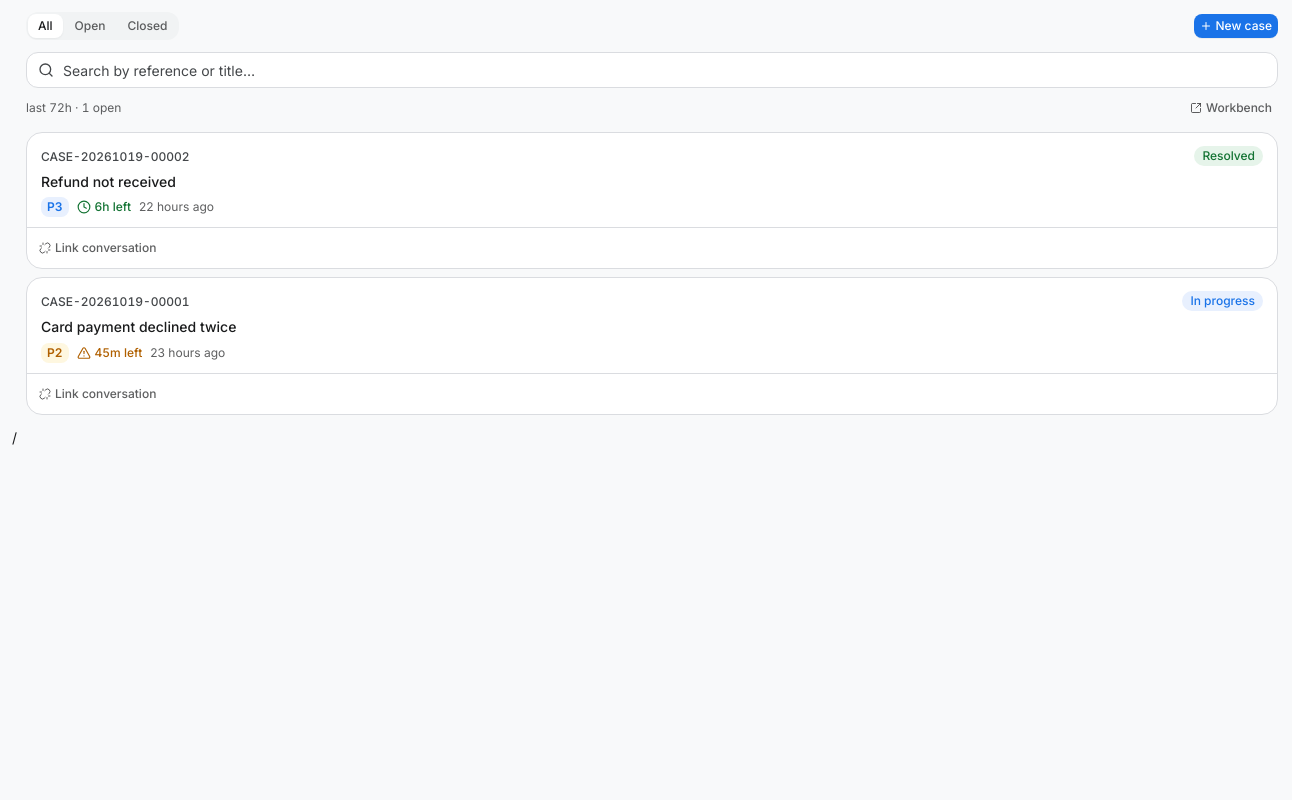
Scenario: conversation Cases tab › posts a comment from the case detail
Click the text "Card payment declined twice" at (139, 327), box [41,318,236,335]
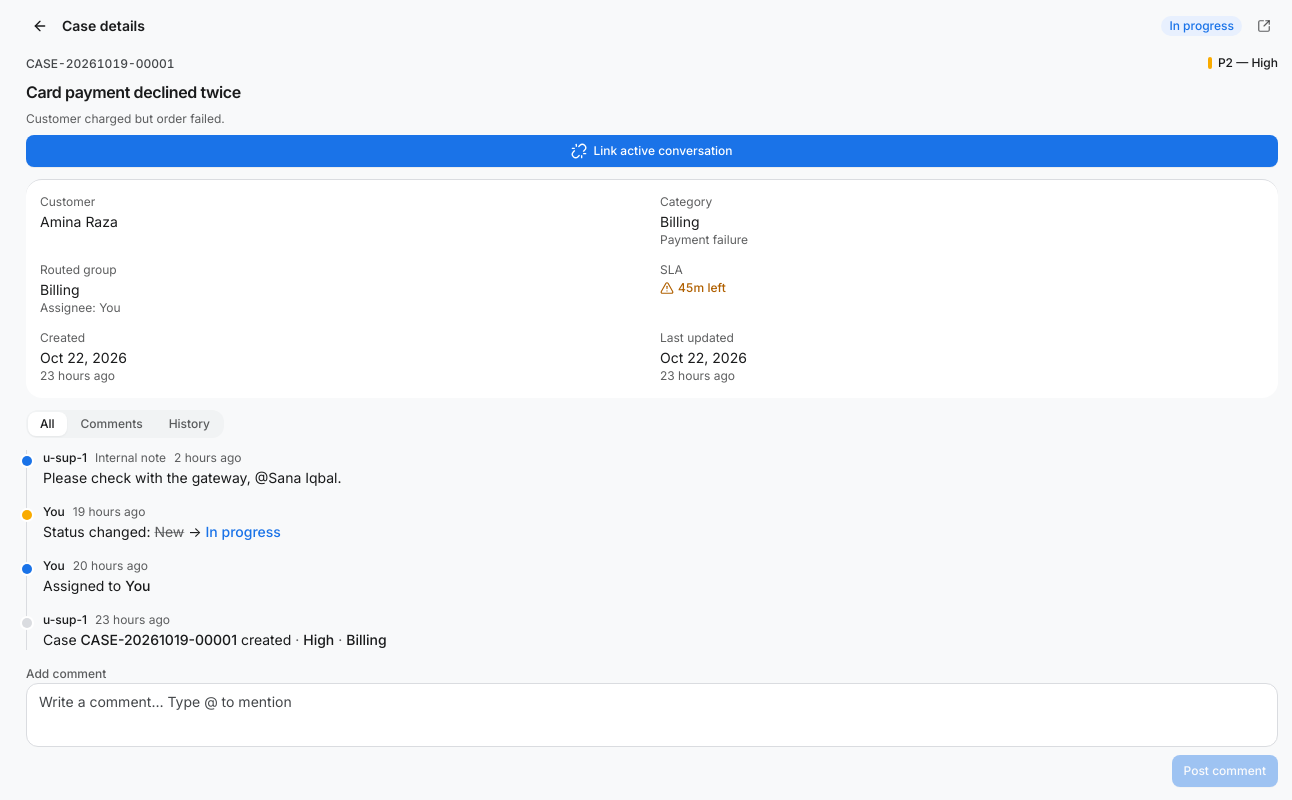
Expected: the text "Please check with the gateway, @Sana Iqbal." is shown, [43,469,342,486]
Click the field named "Write a comment… Type @ to mention" at (652, 715), box [26,683,1278,747]
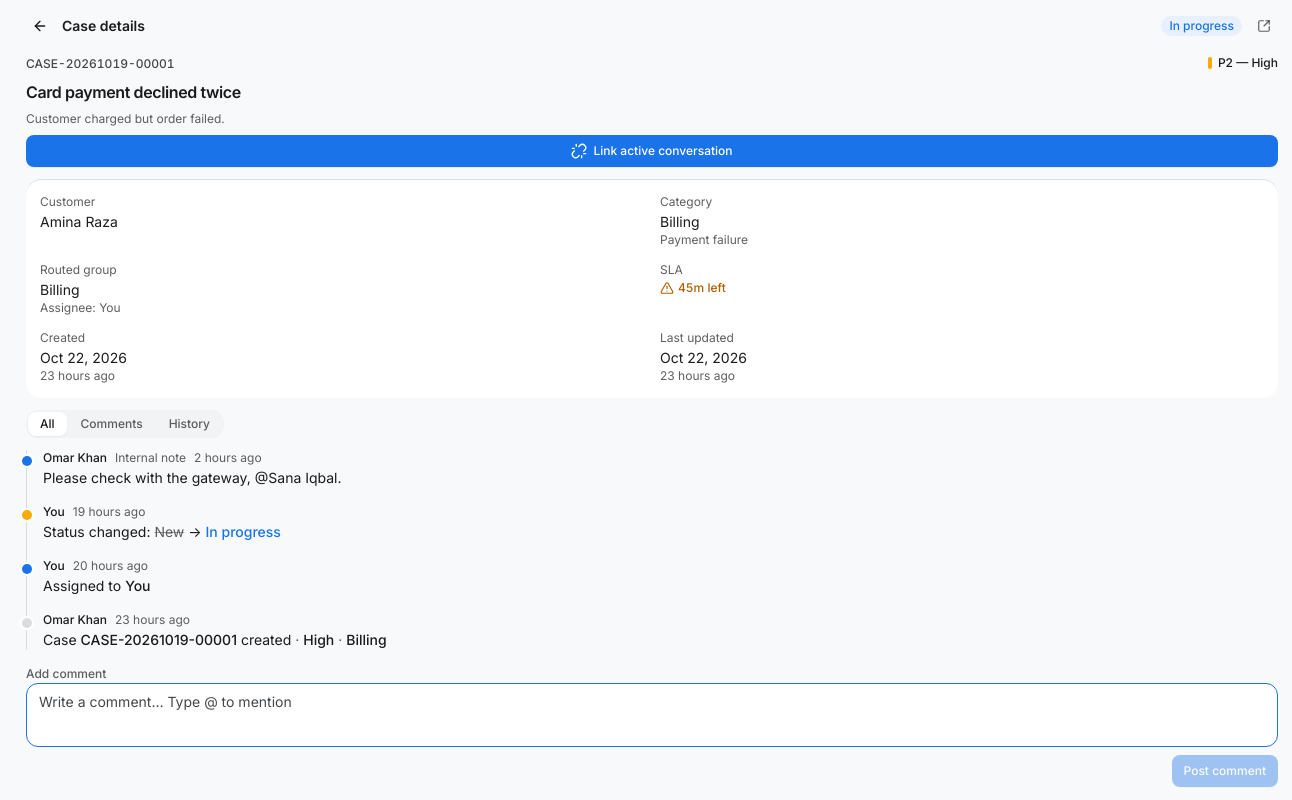
Type keys "Customer sent a screenshot"
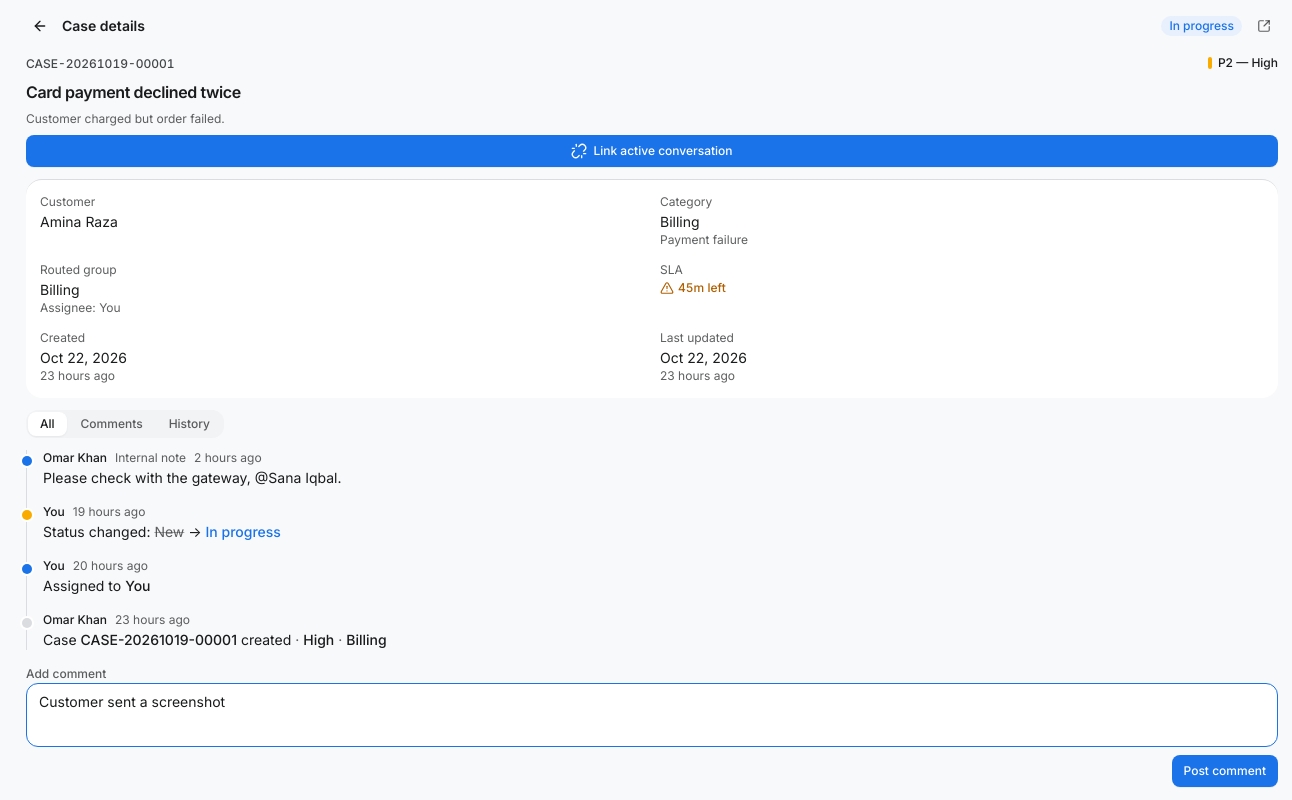
Click the button "Post comment" at (1225, 771), box [1172,755,1278,787]
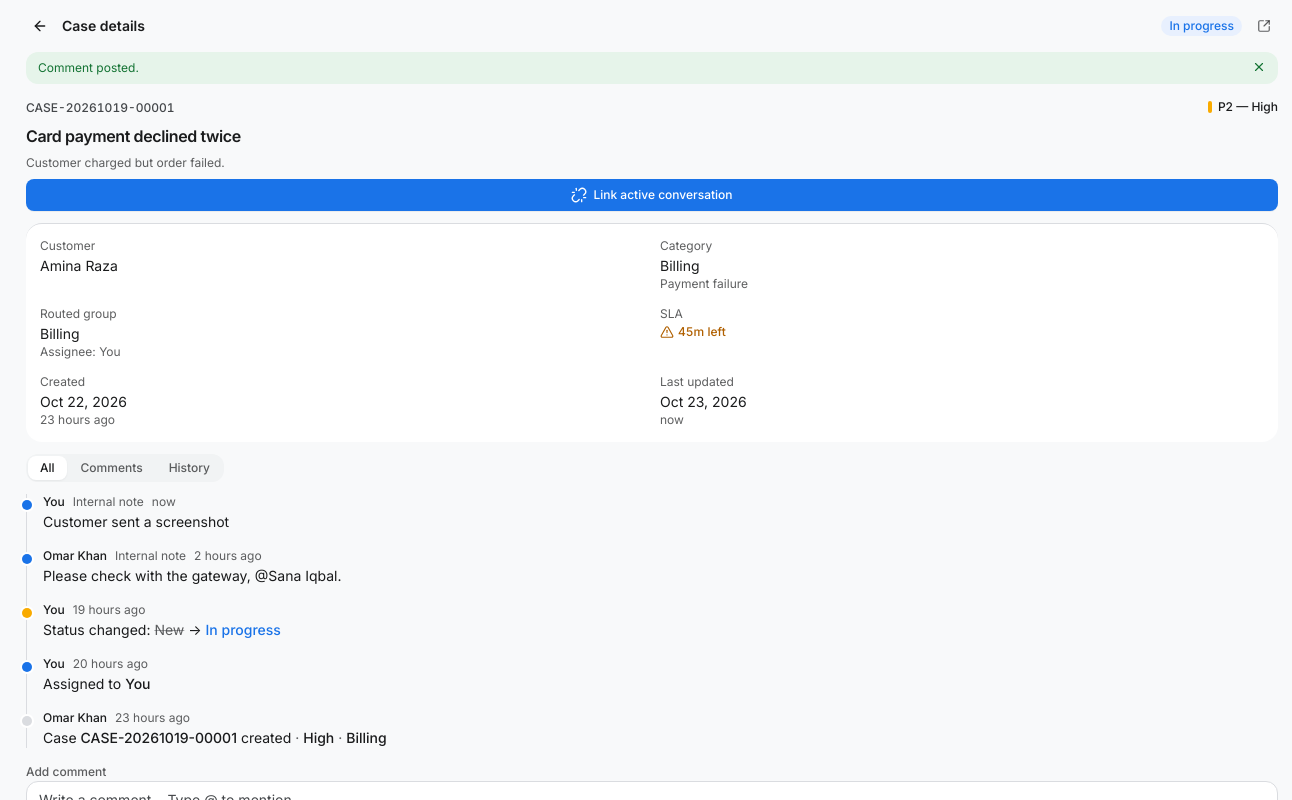
Expected: the text "Comment posted." is shown, [38,60,139,75]
